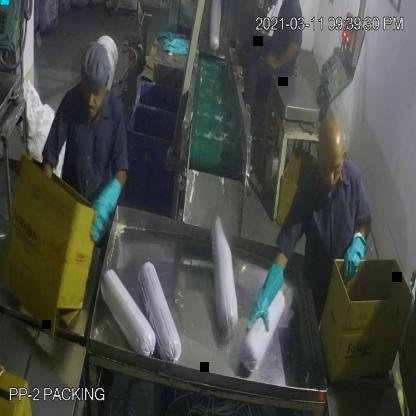glove: (80, 178, 124, 237), (247, 266, 283, 328), (339, 232, 373, 282)
